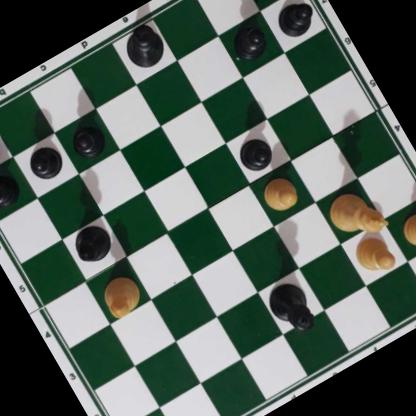black-bishop: (64, 218, 120, 270)
black-king: (114, 17, 173, 76)
black-pawn: (64, 117, 110, 165), (225, 20, 271, 66), (270, 0, 319, 43), (232, 130, 277, 176), (22, 141, 66, 186), (0, 167, 22, 212)
black-queen: (263, 276, 322, 342)
black-rook: (0, 115, 6, 176), (241, 0, 302, 0)
white-bishop: (96, 271, 147, 321)
white-king: (321, 180, 392, 251)
white-pawn: (348, 229, 401, 283), (255, 169, 302, 217), (396, 204, 416, 256)
